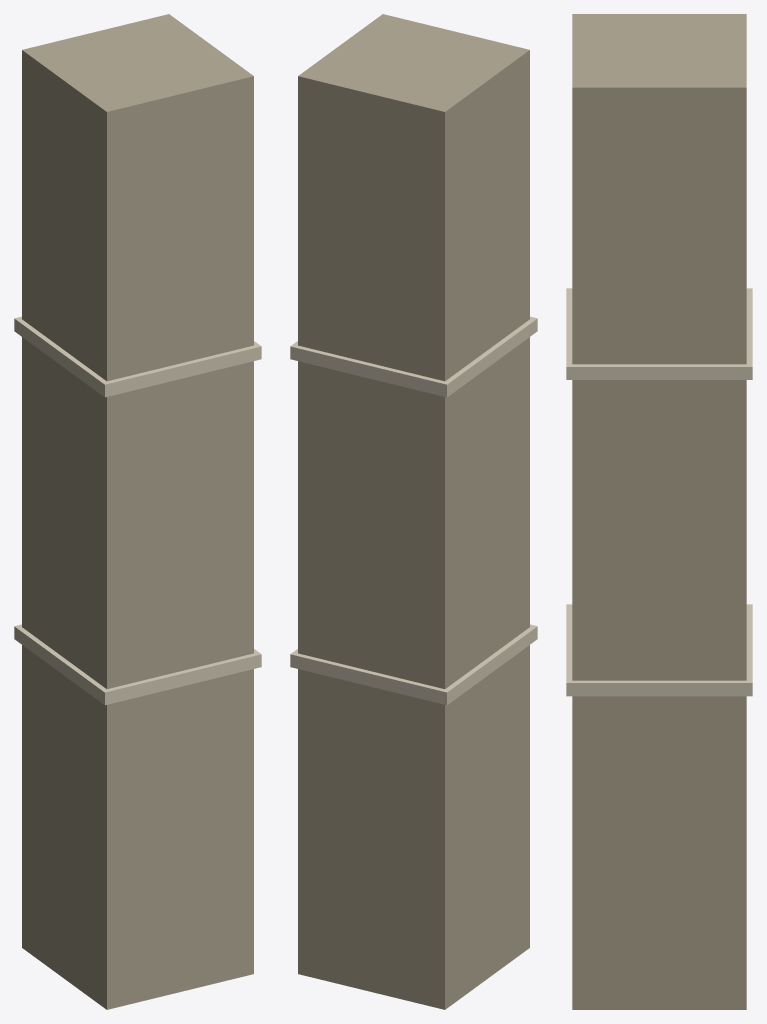
The model's file is co_corner.glb.
3 renders of one model, left to right at view 1: azimuth 30°, elevation 25°; view 2: azimuth 150°, elevation 25°; view 3: azimuth 270°, elevation 25°, orthographic. The views are drawn at different scales.
Visible parts, largest first — view 1: city_co_corner; view 2: city_co_corner; view 3: city_co_corner.
Boxes of the visible parts, bbox=[...] form: city_co_corner: bbox=[14, 14, 261, 1009]; city_co_corner: bbox=[290, 14, 537, 1009]; city_co_corner: bbox=[566, 14, 752, 1009].
Size of the model in its own units: 0.64 by 3.5 by 0.64.
1 material, 1 textured.
